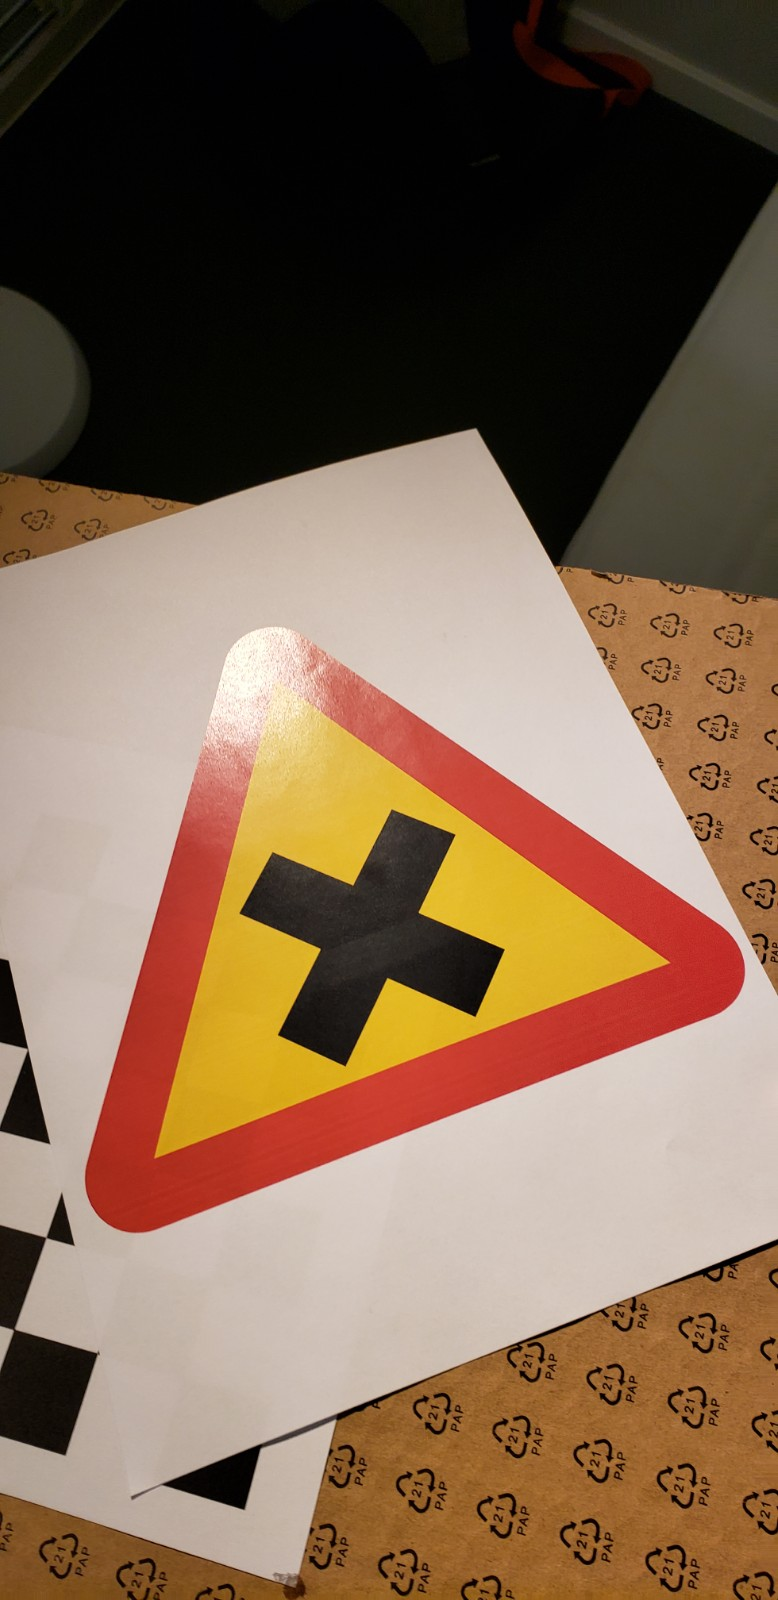junction: (50, 592, 763, 1213)
